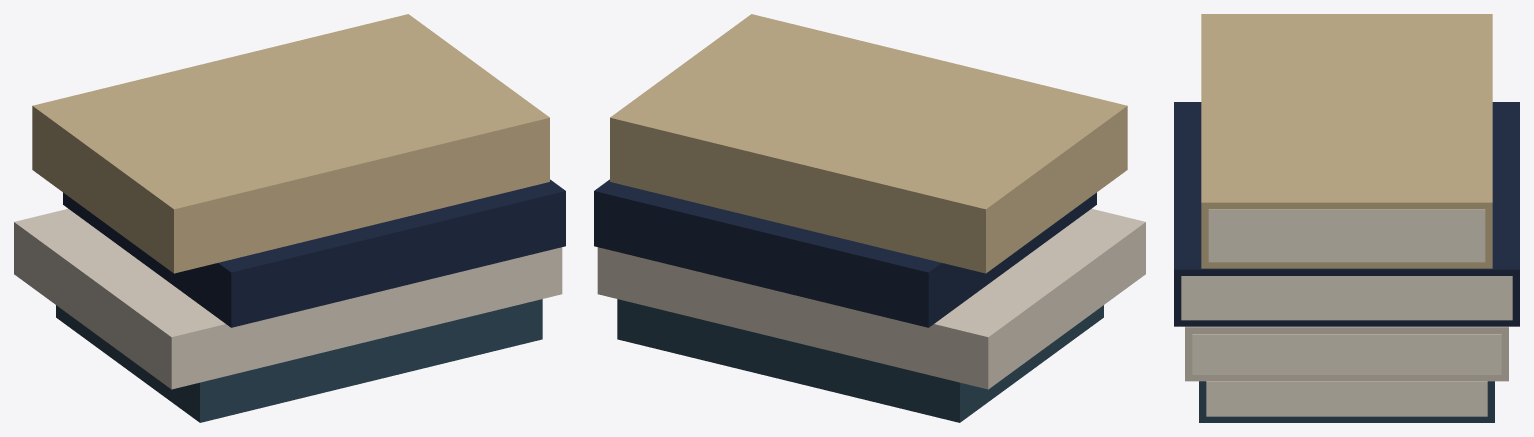
File: CAL-BKS-std.glb
3 views of the same model, side by side, from view 1: azimuth 30°, elevation 25°; view 2: azimuth 150°, elevation 25°; view 3: azimuth 270°, elevation 25° (orthographic). The views are drawn at different scales.
Visible parts, largest first — view 1: CAL-BKS-std; view 2: CAL-BKS-std; view 3: CAL-BKS-std.
Part boxes in pixels (bbox=[...]): CAL-BKS-std: bbox=[14, 14, 565, 422]; CAL-BKS-std: bbox=[594, 14, 1145, 422]; CAL-BKS-std: bbox=[1174, 14, 1519, 422].
Size of the model in its own units: 0.2529 by 0.135 by 0.1883.
